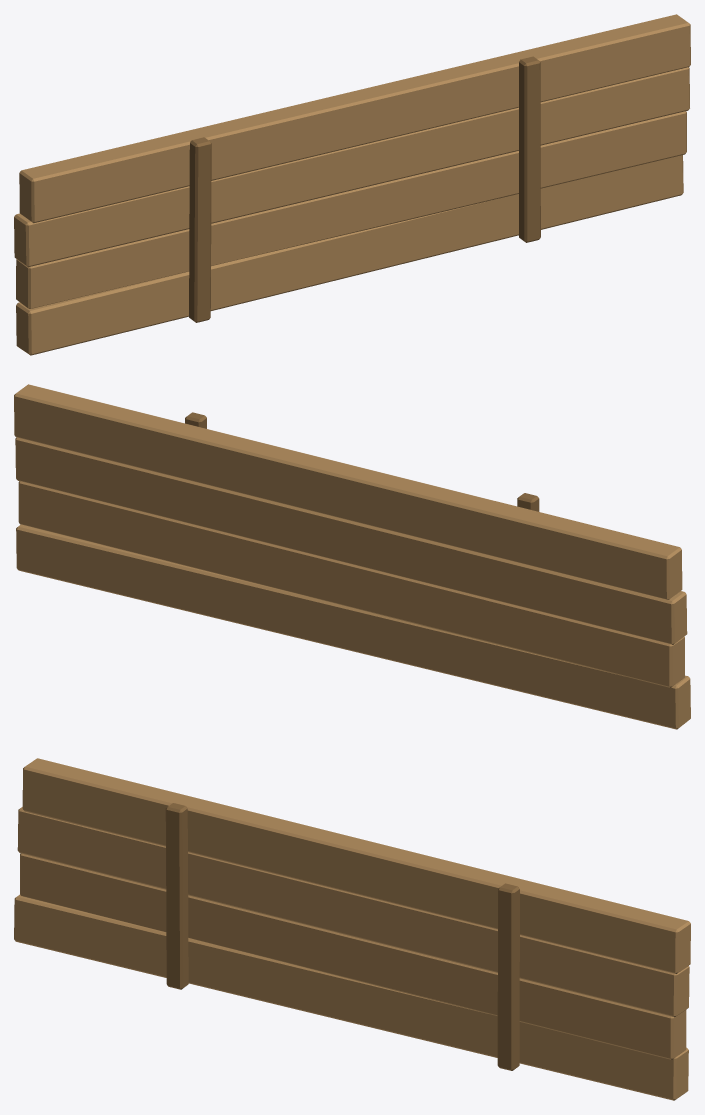
File: sandbox_border.glb
3 renders of one model, top to bottom at view 1: azimuth 30°, elevation 25°; view 2: azimuth 150°, elevation 25°; view 3: azimuth 330°, elevation 25°, orthographic.
Parts seen in each view (by area): view 1: sandbox_border; view 2: sandbox_border; view 3: sandbox_border.
Part boxes in pixels (<box>): sandbox_border: <box>14,14,690,355</box>; sandbox_border: <box>14,384,690,729</box>; sandbox_border: <box>14,758,690,1100</box>.
Bounding box in the file's own units: 20.05 × 5.2 × 1.35.
